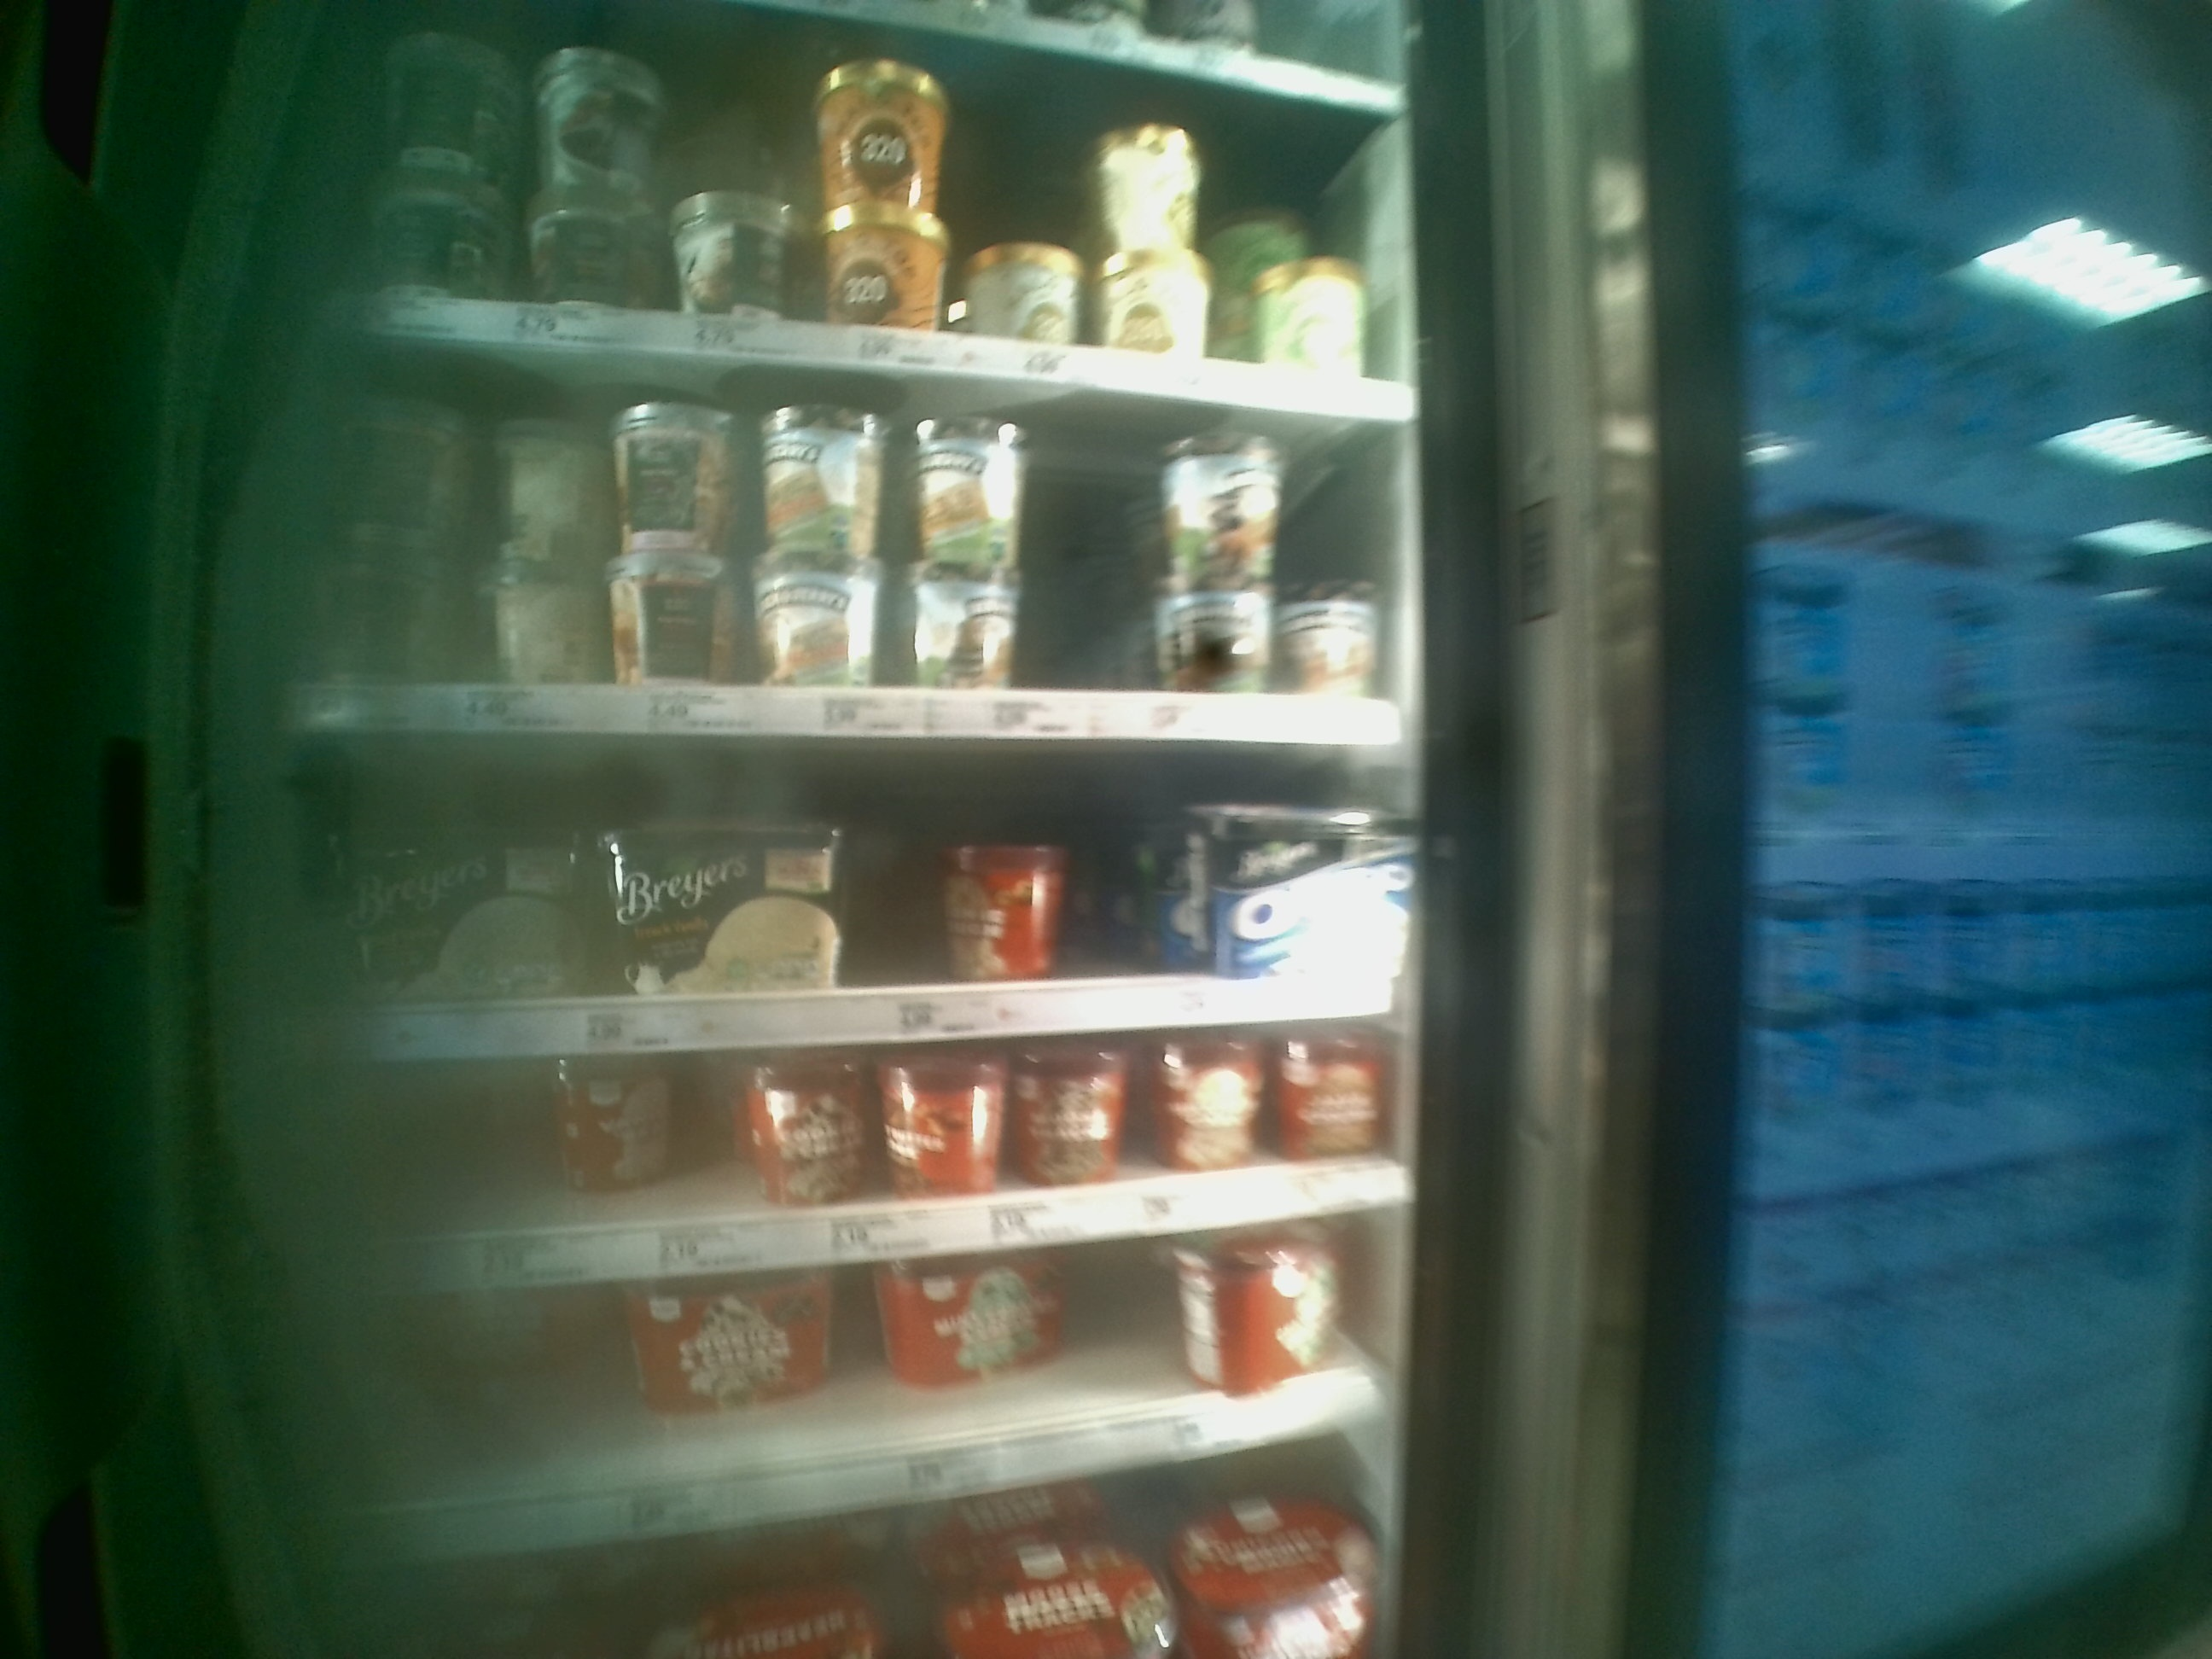ice-cream-shelf: (308, 354, 1399, 741), (284, 741, 1397, 1039)
